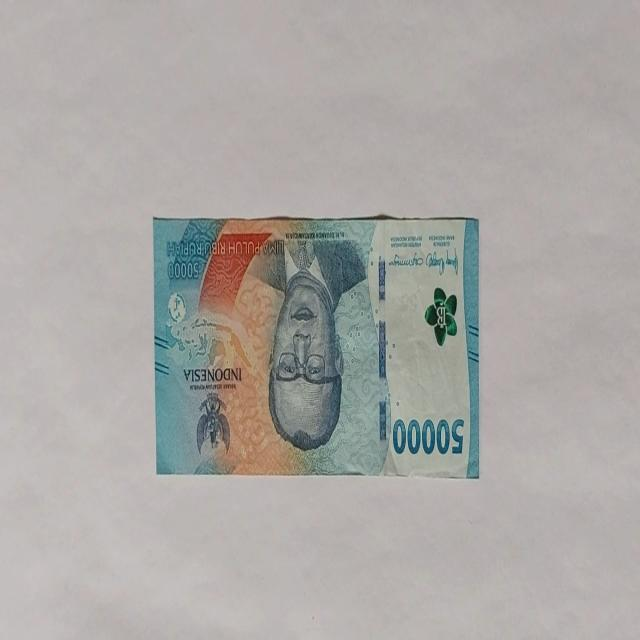lima puluh ribu rupiah: (152, 214, 480, 478)
